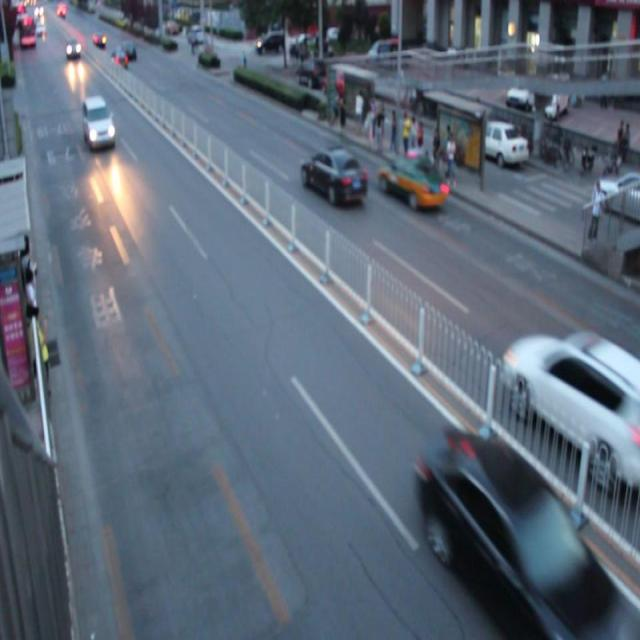car: (416, 425, 602, 640), (499, 328, 632, 476), (377, 149, 448, 211), (299, 144, 366, 206)
truck: (80, 92, 117, 150)
